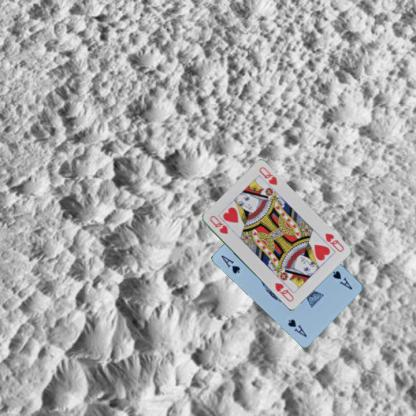As: (330, 268, 353, 291), (219, 253, 241, 275)
Qh: (322, 230, 345, 253), (207, 213, 229, 235)
